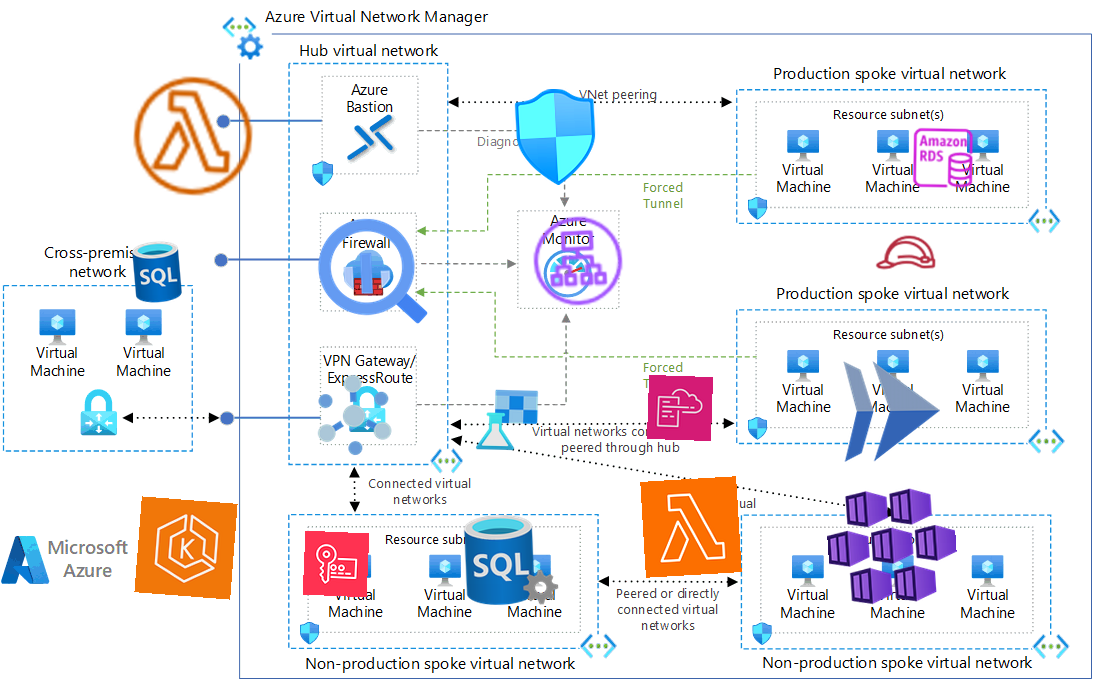aws_amazon_elastic_kubernetes_service: (134, 496, 238, 600)
aws_aurora_amazon_rds_instance: (910, 125, 976, 191)
aws_cloudformation: (646, 374, 714, 442)
aws_elastic_load_balancing_application_load_balancer: (527, 210, 629, 312)
aws_identity_access_management_role: (873, 220, 939, 286)
aws_key_management_service: (302, 530, 370, 598)
aws_lambda: (640, 476, 742, 578)
aws_lambda_lambda_function: (125, 68, 261, 204)
azure_kubernetes_services: (823, 476, 961, 614)
azure_machine_learning_studio_workspaces: (474, 387, 540, 453)
azure_network_security_groups: (505, 86, 607, 188)
azure_sql_database: (122, 237, 192, 307)
azure_sql_server: (461, 510, 561, 610)
gcp_bigquery: (305, 205, 439, 339)
gcp_cloud_run: (825, 346, 955, 476)
gcp_pubsub: (304, 365, 404, 465)
